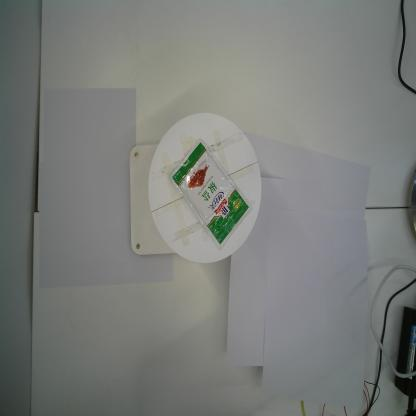Seasoner: (169, 138, 252, 250)
